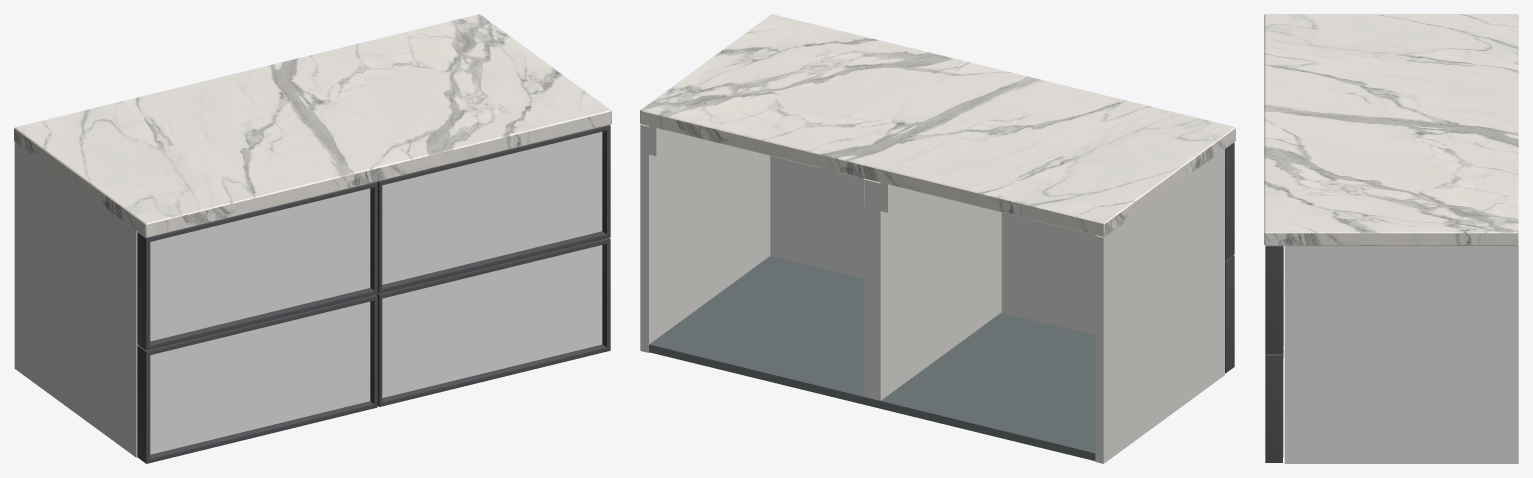
3 renders of one model, left to right at view 1: azimuth 30°, elevation 25°; view 2: azimuth 150°, elevation 25°; view 3: azimuth 270°, elevation 25°, orthographic. The views are drawn at different scales.
Visible parts, largest first — view 1: AT05; view 2: AT05; view 3: AT05.
Part boxes in pixels (<box>): AT05: <box>14,14,611,463</box>; AT05: <box>640,14,1235,463</box>; AT05: <box>1264,14,1518,463</box>.
Bounding box in the file's own units: 0.996 × 0.4929 × 0.489.
5 materials, 3 textured.
